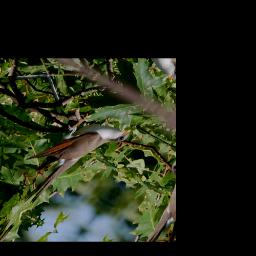Cuckoo: (0, 100, 133, 221)
